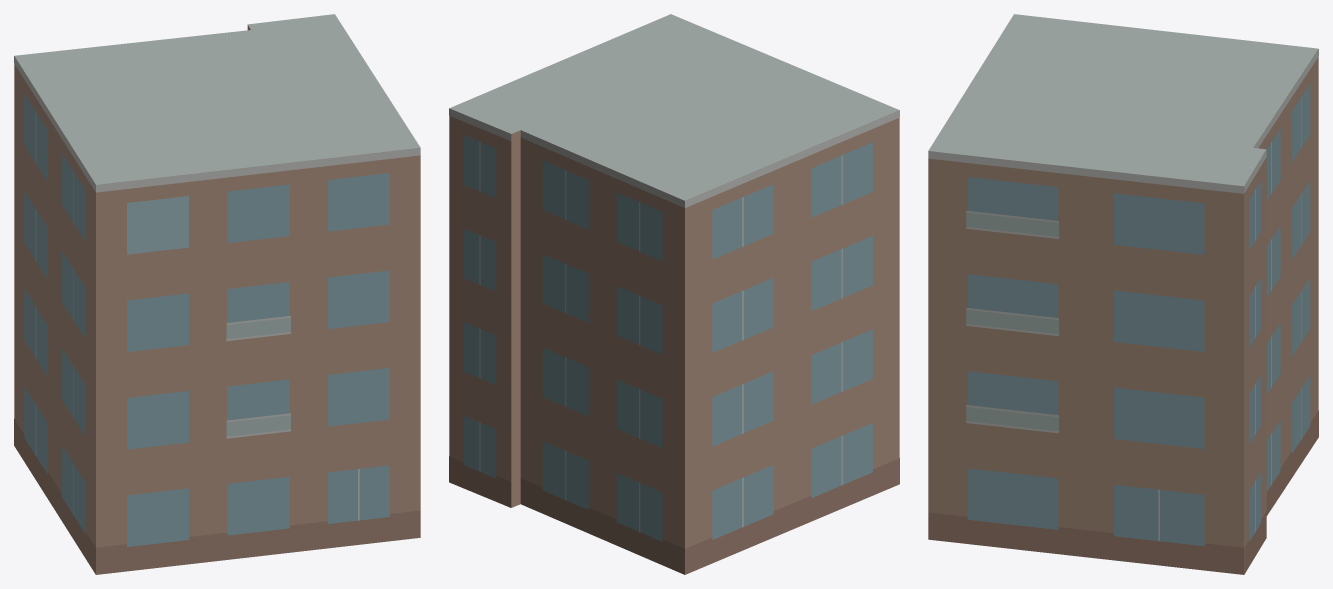
Rendered from survey-upis-32919854.glb.
3 renders of one model, left to right at view 1: azimuth 30°, elevation 25°; view 2: azimuth 150°, elevation 25°; view 3: azimuth 270°, elevation 25°, orthographic. The views are drawn at different scales.
Parts seen in each view (by area): view 1: survey-upis-32919854.tmp; view 2: survey-upis-32919854.tmp; view 3: survey-upis-32919854.tmp.
Part boxes in pixels (x1,y1,x2,y2): survey-upis-32919854.tmp: (14, 14, 420, 574); survey-upis-32919854.tmp: (449, 14, 899, 574); survey-upis-32919854.tmp: (928, 14, 1318, 574).
Size of the model in its own units: 11.9 by 12.5 by 11.4.
